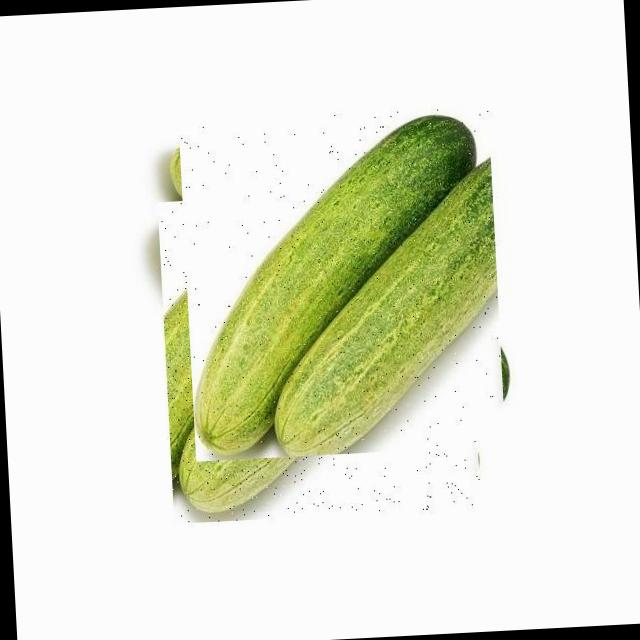Cucumber: (178, 120, 486, 448)
